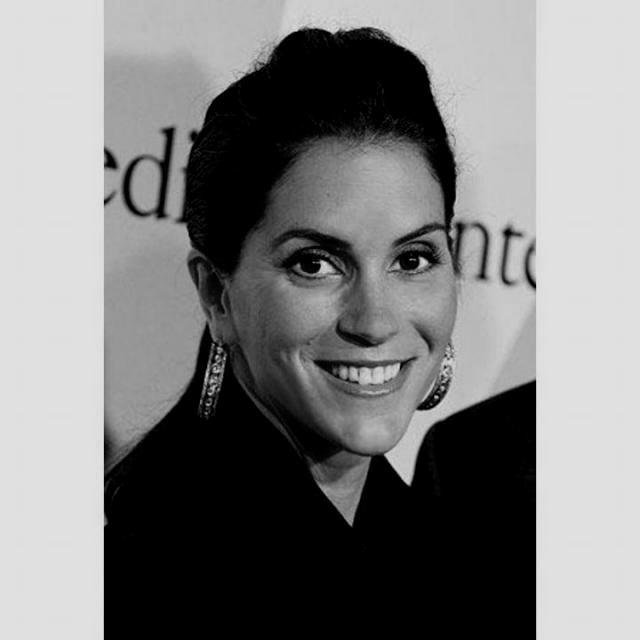real: (229, 125, 462, 457)
